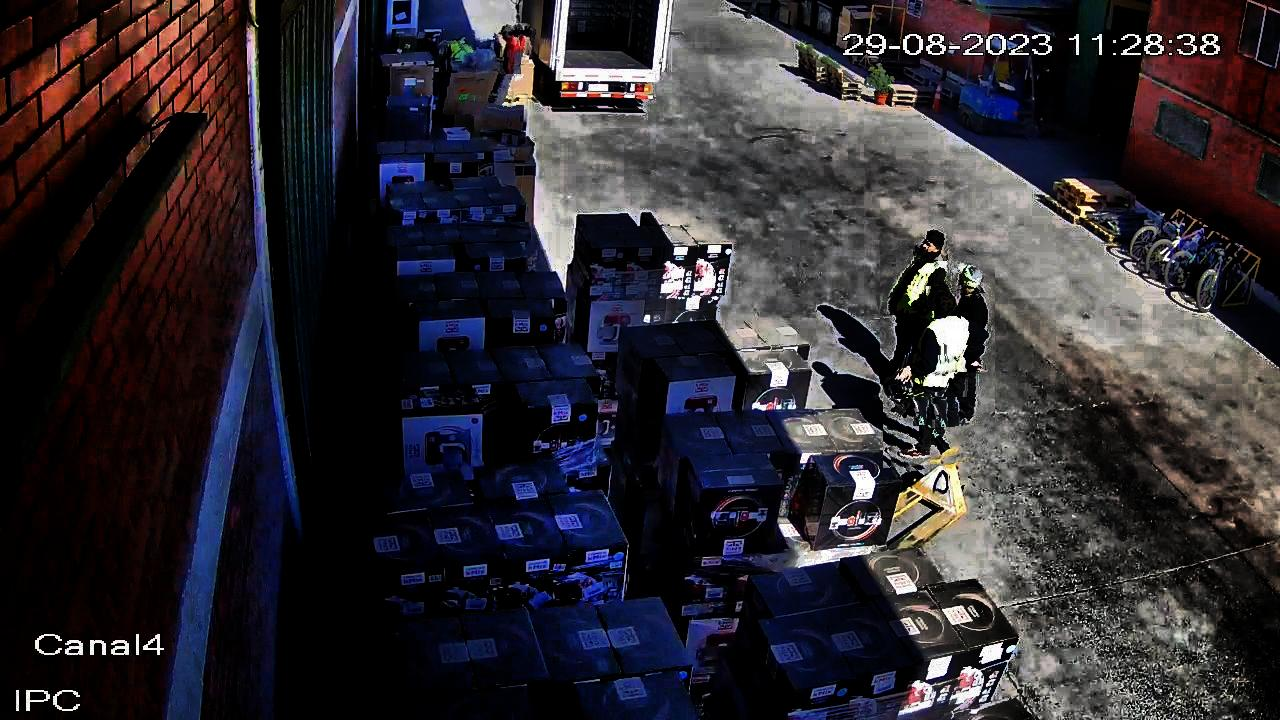con-casco: (496, 27, 521, 45)
con-chaleco: (906, 311, 972, 398), (891, 244, 954, 324), (446, 42, 477, 73)
persona: (884, 282, 996, 469), (922, 261, 996, 428), (881, 228, 954, 385), (488, 24, 531, 126), (440, 30, 482, 116)
sin-casco: (950, 262, 986, 297), (926, 286, 962, 320), (916, 228, 948, 262), (451, 36, 473, 50)
sin-chaleco: (940, 288, 992, 372), (498, 41, 522, 75)
